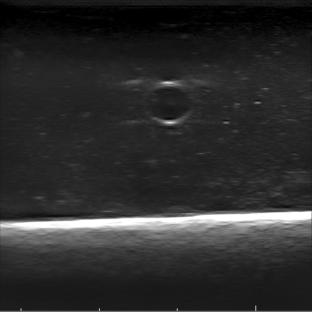vessel: (144, 80, 194, 125)
